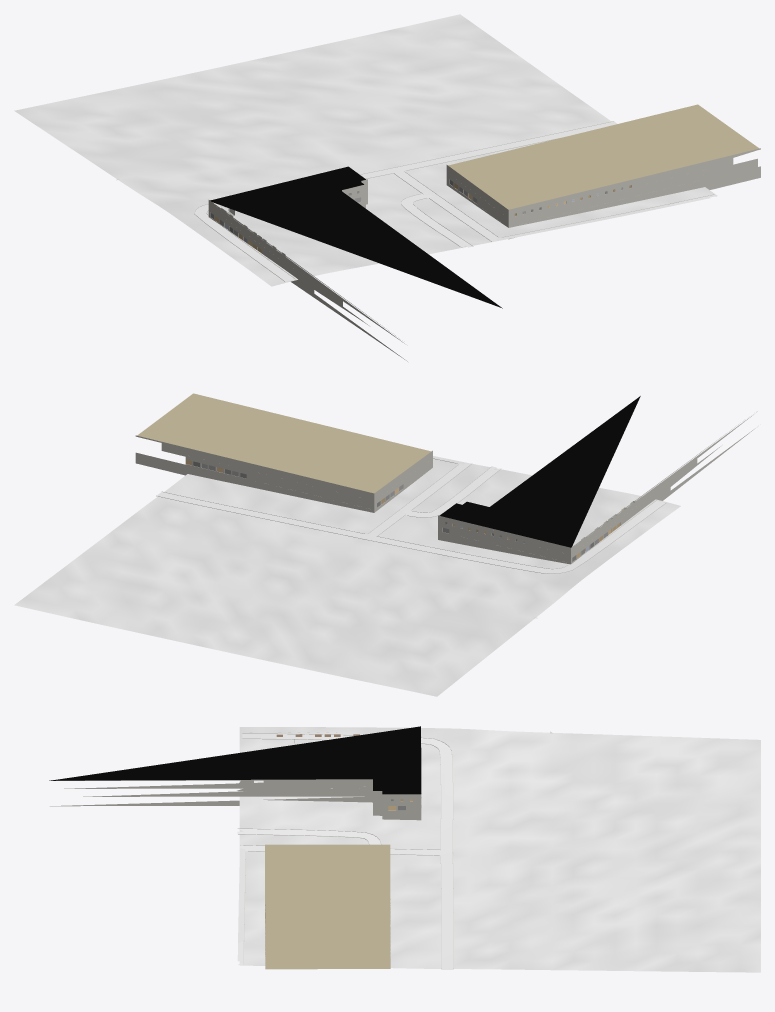
The picture shows the model from 3 angles, top to bottom: view 1: azimuth 30°, elevation 25°; view 2: azimuth 150°, elevation 25°; view 3: azimuth 270°, elevation 25°; orthographic projection. The views are drawn at different scales.
Parts seen in each view (by area): view 1: ground, roof_flat, wall_com, concrete, curb; view 2: ground, roof_flat, wall_com, concrete, curb; view 3: ground, roof_flat, wall_com, concrete, curb.
Part boxes in pixels (x1,y1,x2,y2): ground: [14, 14, 717, 286]; roof_flat: [210, 104, 759, 308]; wall_com: [208, 148, 760, 361]; concrete: [195, 121, 716, 281]; curb: [194, 121, 714, 281]; ground: [14, 459, 680, 696]; roof_flat: [137, 393, 640, 547]; wall_com: [135, 411, 757, 564]; concrete: [157, 456, 665, 573]; curb: [156, 458, 665, 573]; ground: [239, 727, 760, 972]; roof_flat: [49, 726, 421, 969]; wall_com: [50, 779, 421, 918]; concrete: [237, 734, 453, 969]; curb: [238, 733, 453, 969].
Bounding box in the file's own units: 283 × 21.43 × 358.
